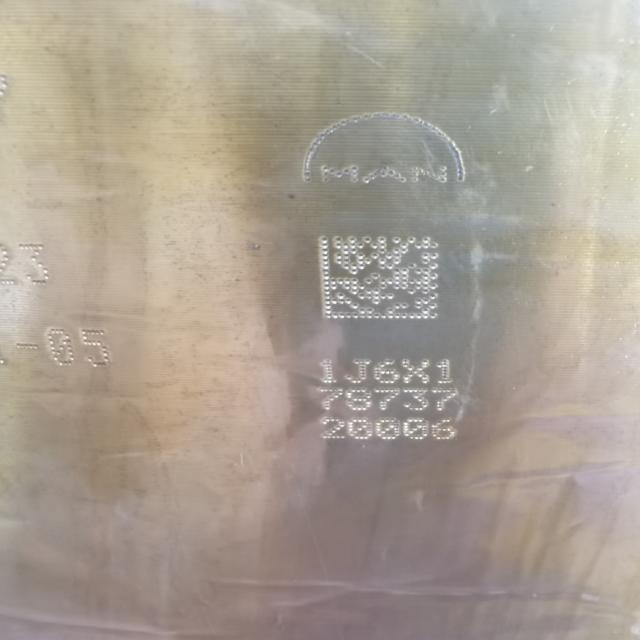dmc: (321, 237, 438, 319)
